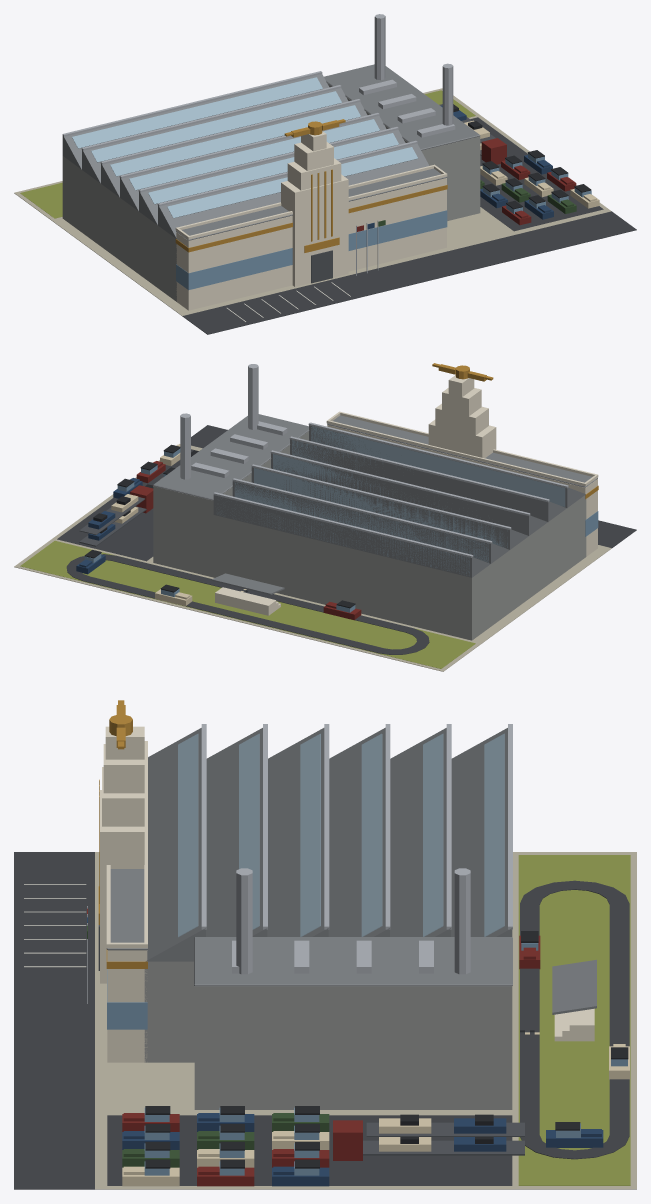
File: motorworks.glb
The picture shows the model from 3 angles, top to bottom: view 1: azimuth 30°, elevation 25°; view 2: azimuth 150°, elevation 25°; view 3: azimuth 270°, elevation 25°; orthographic projection. The views are drawn at different scales.
Parts seen in each view (by area): view 1: motorworks; view 2: motorworks; view 3: motorworks.
Part boxes in pixels (x1,y1,x2,y2): motorworks: (14,14,636,334); motorworks: (14,363,636,671); motorworks: (14,700,636,1189).
Size of the model in its own units: 64 by 21.6 by 50.
